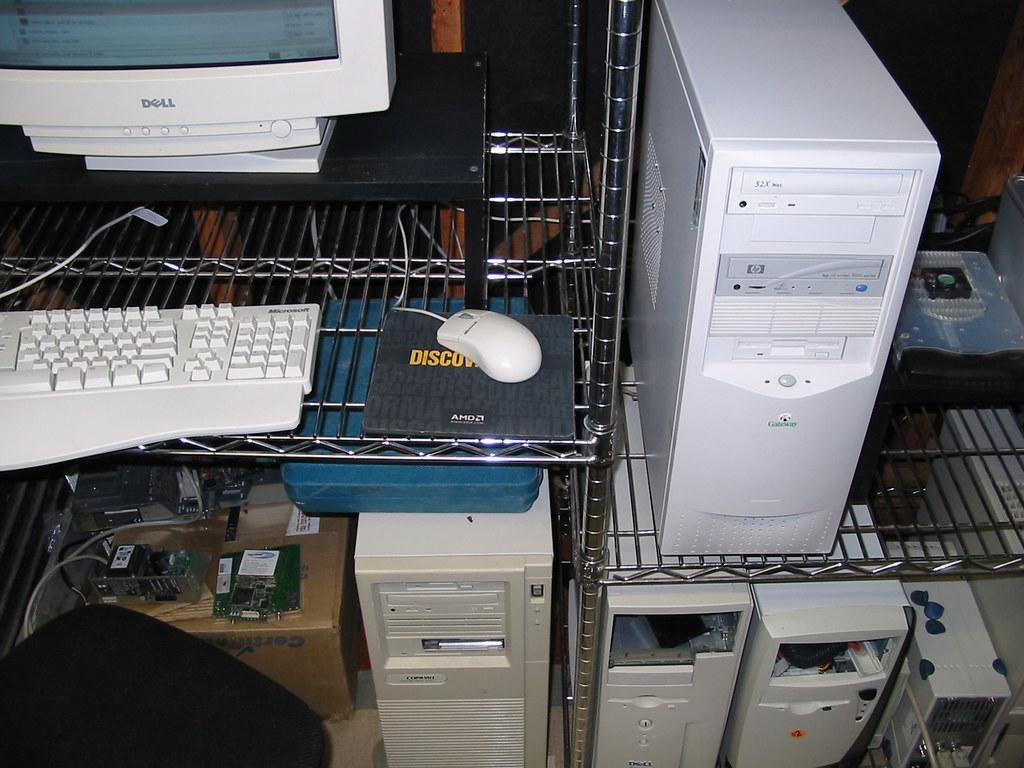computer: (627, 1, 942, 559), (1, 1, 398, 174), (353, 474, 555, 768), (722, 580, 916, 768), (588, 582, 754, 768), (872, 576, 1013, 768)
